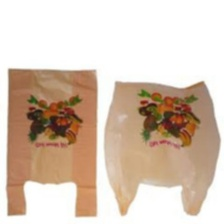plastic_bag: (100, 76, 222, 218), (3, 66, 103, 218)
